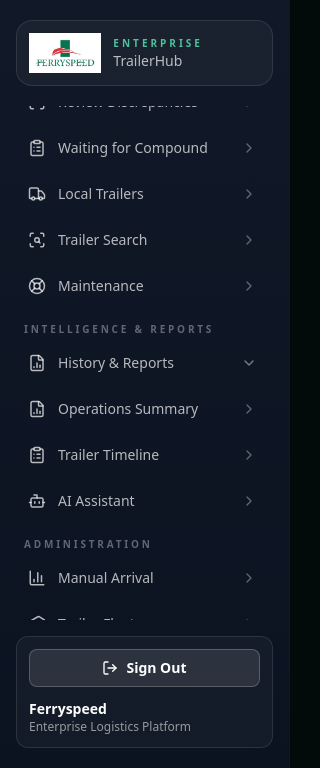
Scenario: Sidebar › expands and collapses the consolidated History & Reports group
(page scrolled)
Click the button "History & Reports". click: (142,363)
box: [16,343,269,383]
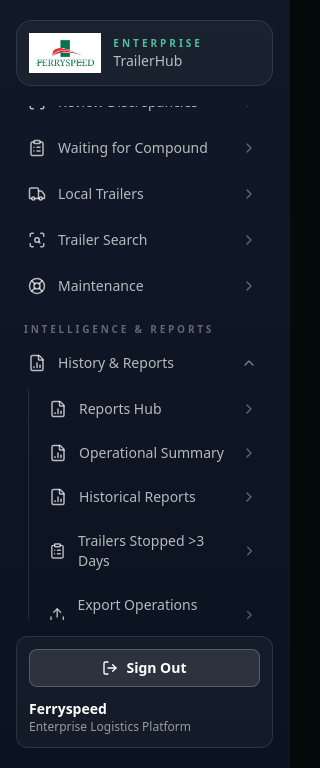
Expected: the button "History & Reports" is expanded
Click the button "History & Reports". click: (142,363)
box: [16,343,269,383]
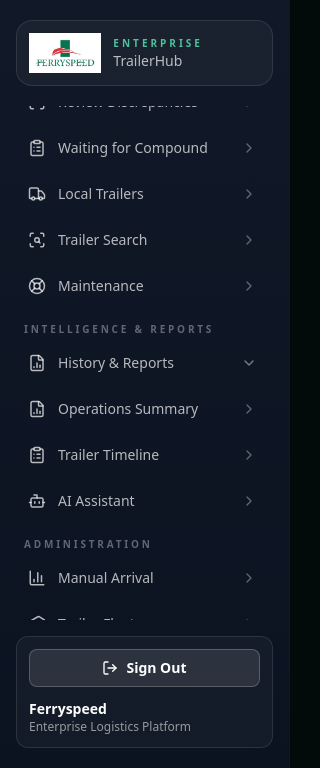
Expected: the button "History & Reports" is collapsed, [16,343,269,383]
Expected: the link "Reports Hub" is gone
